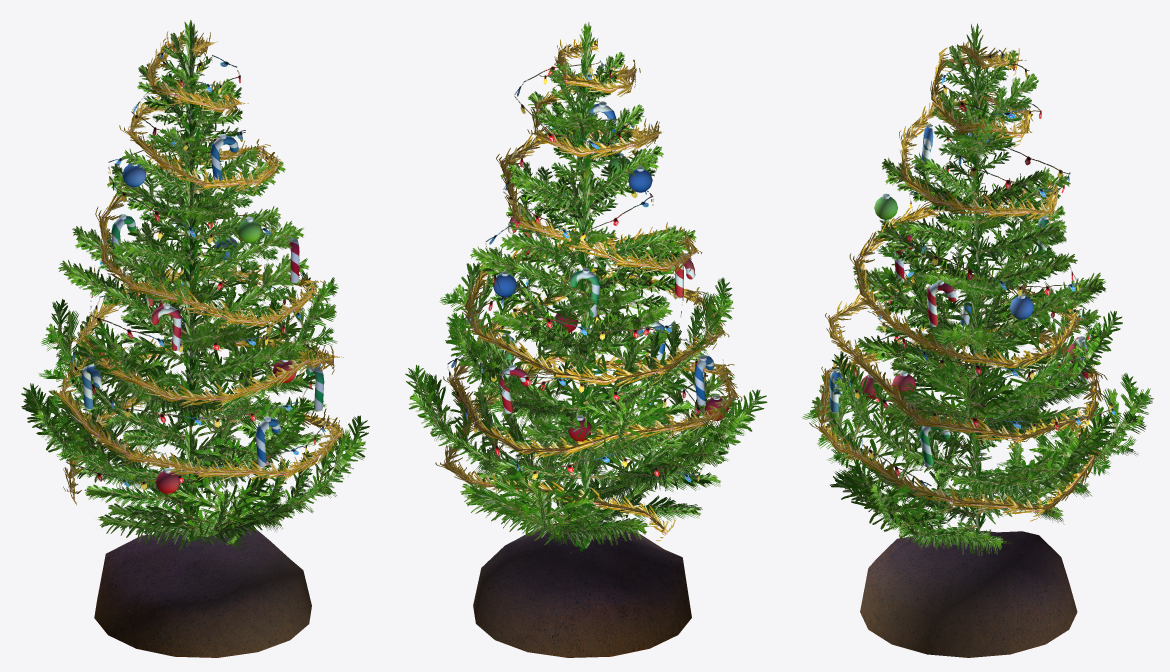
The model's file is christmas_tree.obj.
The picture shows the model from 3 angles, left to right: view 1: azimuth 30°, elevation 25°; view 2: azimuth 150°, elevation 25°; view 3: azimuth 270°, elevation 25°; orthographic projection.
Parts seen in each view (by area): view 1: obj7, obj8, obj1, obj2, obj4, obj6; view 2: obj7, obj8, obj1, obj2, obj4, obj6, obj5; view 3: obj7, obj8, obj1, obj2, obj6, obj4, obj5.006.
Part boxes in pixels (box(x1,y1,x2,y2)): obj7: box(21, 20, 369, 550); obj8: box(94, 527, 311, 657); obj1: box(51, 30, 346, 505); obj2: box(66, 34, 325, 489); obj4: box(82, 134, 280, 467); obj6: box(85, 237, 299, 494); obj7: box(405, 22, 767, 552); obj8: box(473, 521, 691, 657); obj1: box(435, 35, 742, 541); obj2: box(447, 60, 714, 482); obj4: box(492, 101, 714, 405); obj6: box(499, 213, 728, 441); obj5: box(569, 270, 600, 317); obj7: box(802, 23, 1153, 556); obj8: box(860, 531, 1077, 657); obj1: box(809, 40, 1107, 521); obj2: box(848, 49, 1117, 486); obj6: box(860, 234, 1088, 398); obj4: box(829, 124, 1033, 413); obj5.006: box(919, 426, 950, 467).
Size of the model in its own units: 83.28 by 149 by 81.78.
Materials: 4 (4 with a texture image).
